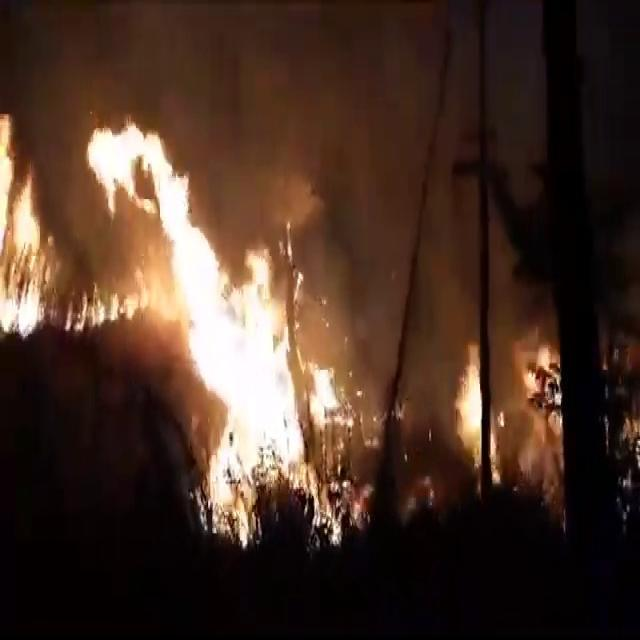Fire: (81, 117, 347, 534), (0, 121, 54, 327), (457, 356, 481, 458)
Smoke: (345, 64, 507, 434)
